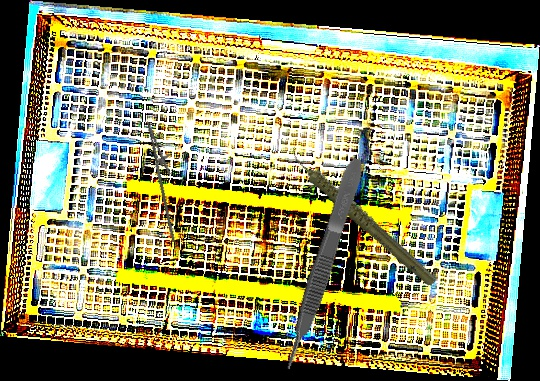Handpiece: (287, 121, 439, 310)
Needle Holder: (132, 118, 198, 243)
Tissue Forceps: (276, 155, 369, 373)
